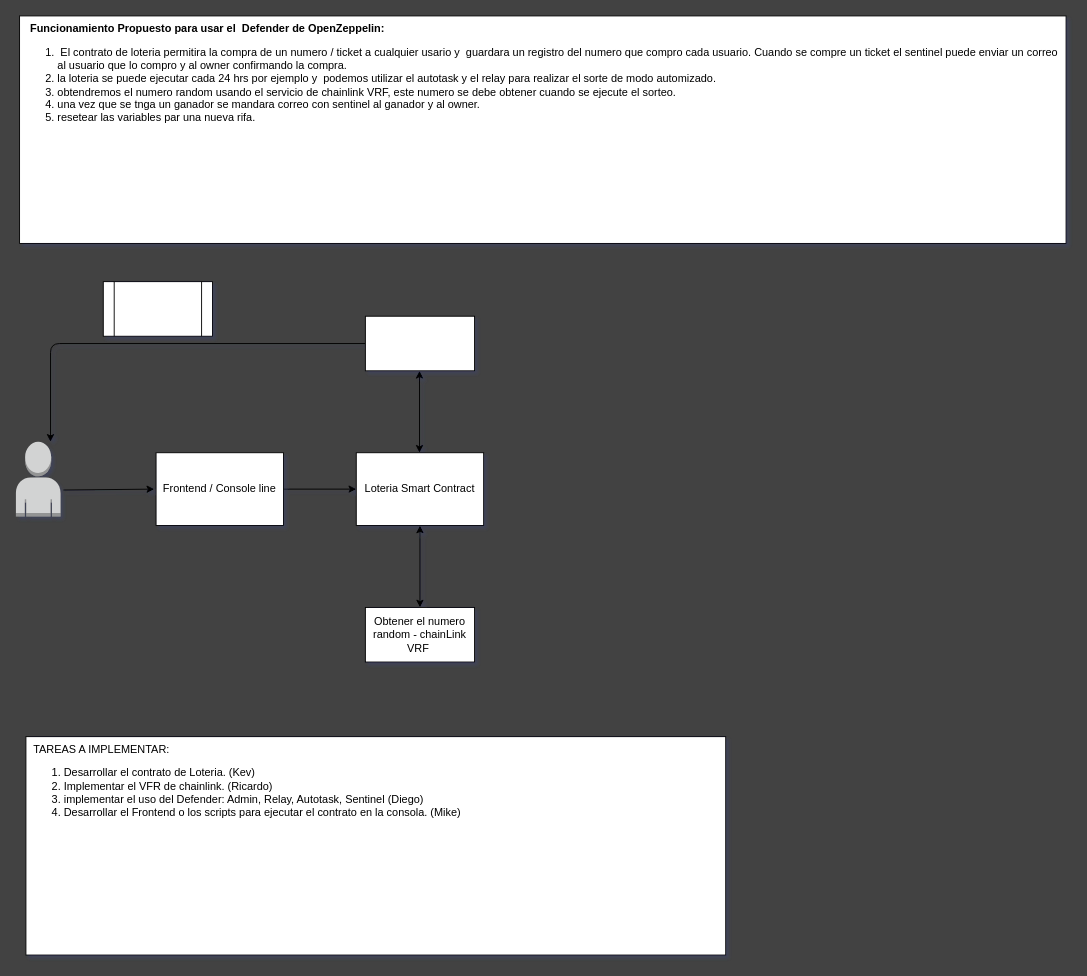
The diagram is 1087 pixels wide and 976 high, and some of its shapes have lost their labels. Here are the shapes that lost their labels. From the top down, the centre of each, then its label:
(x=157, y=308): Sentinel - Envia correo al usuario.
(x=419, y=343): OpenZeppelin Defender
